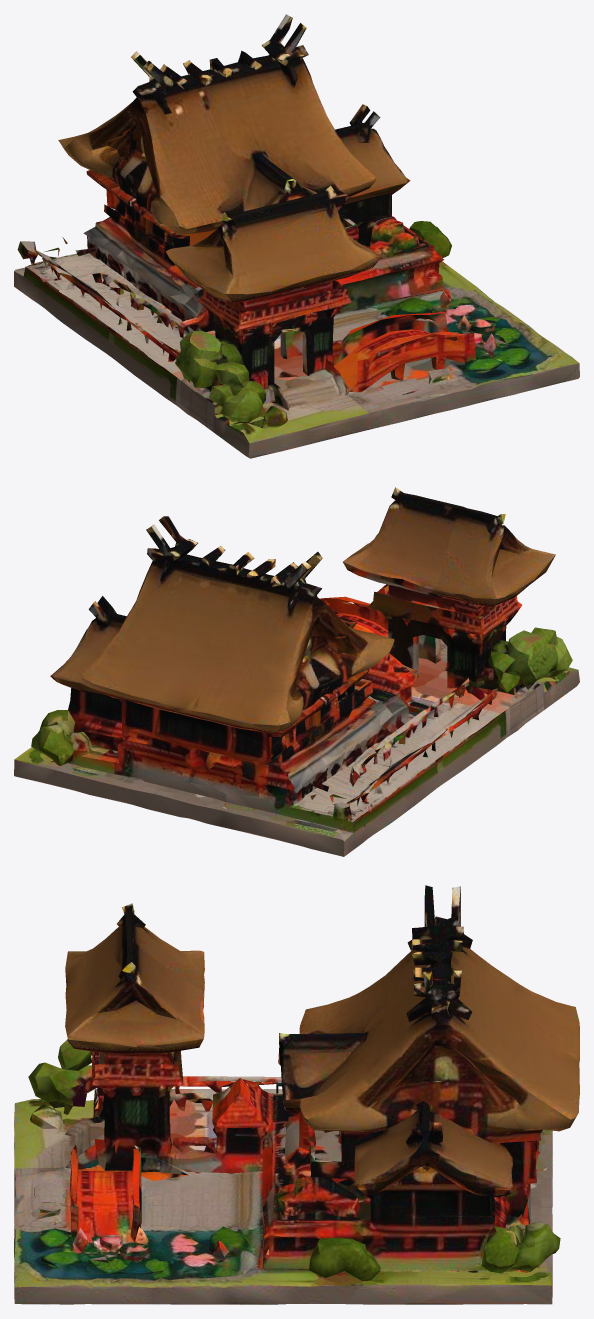
Rendered from aoi-aso-shrine.glb.
The picture shows the model from 3 angles, top to bottom: view 1: azimuth 30°, elevation 25°; view 2: azimuth 150°, elevation 25°; view 3: azimuth 270°, elevation 25°; orthographic projection. The views are drawn at different scales.
Parts seen in each view (by area): view 1: logan-textured.obj; view 2: logan-textured.obj; view 3: logan-textured.obj.
Part boxes in pixels (x1=…): logan-textured.obj: x1=14, y1=14, x2=579, y2=458; logan-textured.obj: x1=14, y1=487, x2=579, y2=856; logan-textured.obj: x1=14, y1=885, x2=579, y2=1304.
Bounding box in the file's own units: 0.8286 × 0.5481 × 1.
1 material, 1 textured.
